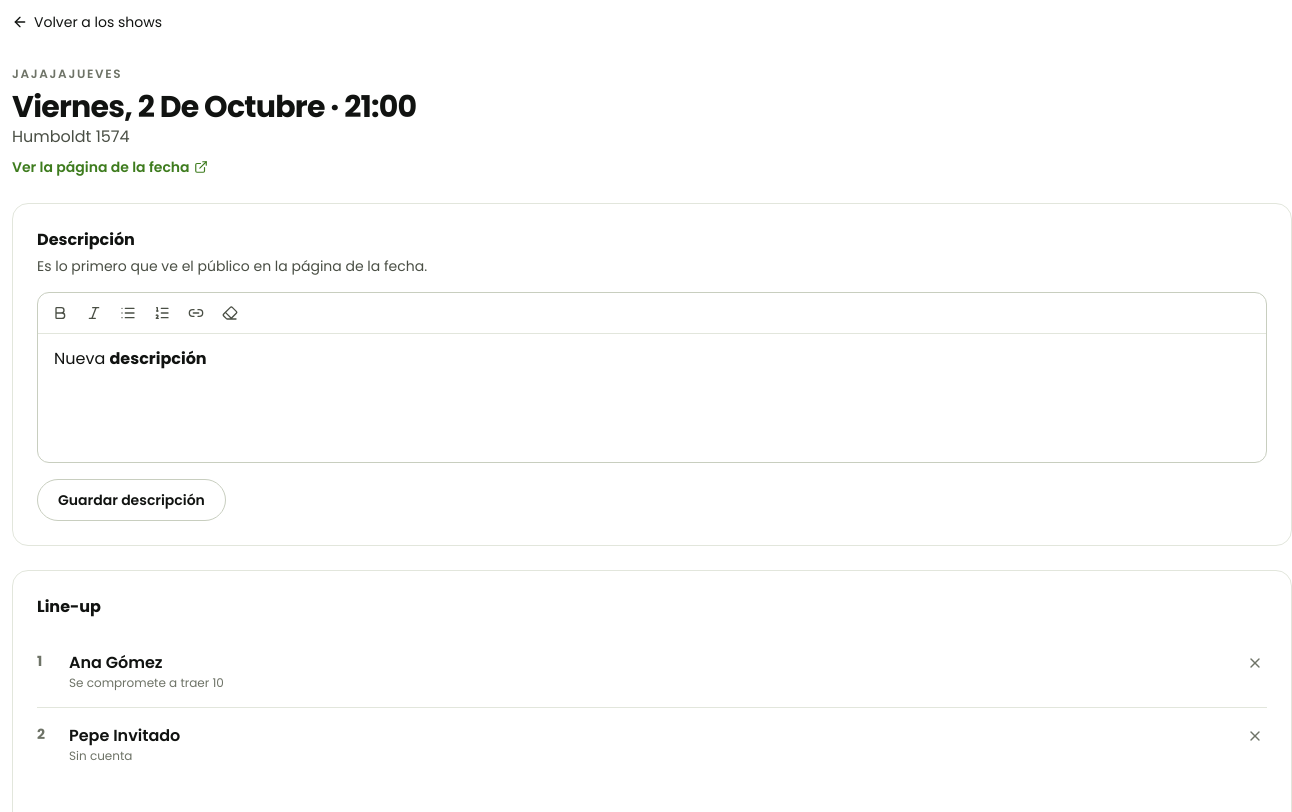
Show (armado) › descripción › guarda lo que se escribió
The image size is (1292, 812).
Expected: the heading "Line-up" is shown, x1=37 y1=595 x2=101 y2=618
Click the button "Guardar descripción" at (131, 500), box x1=37 y1=479 x2=226 y2=521
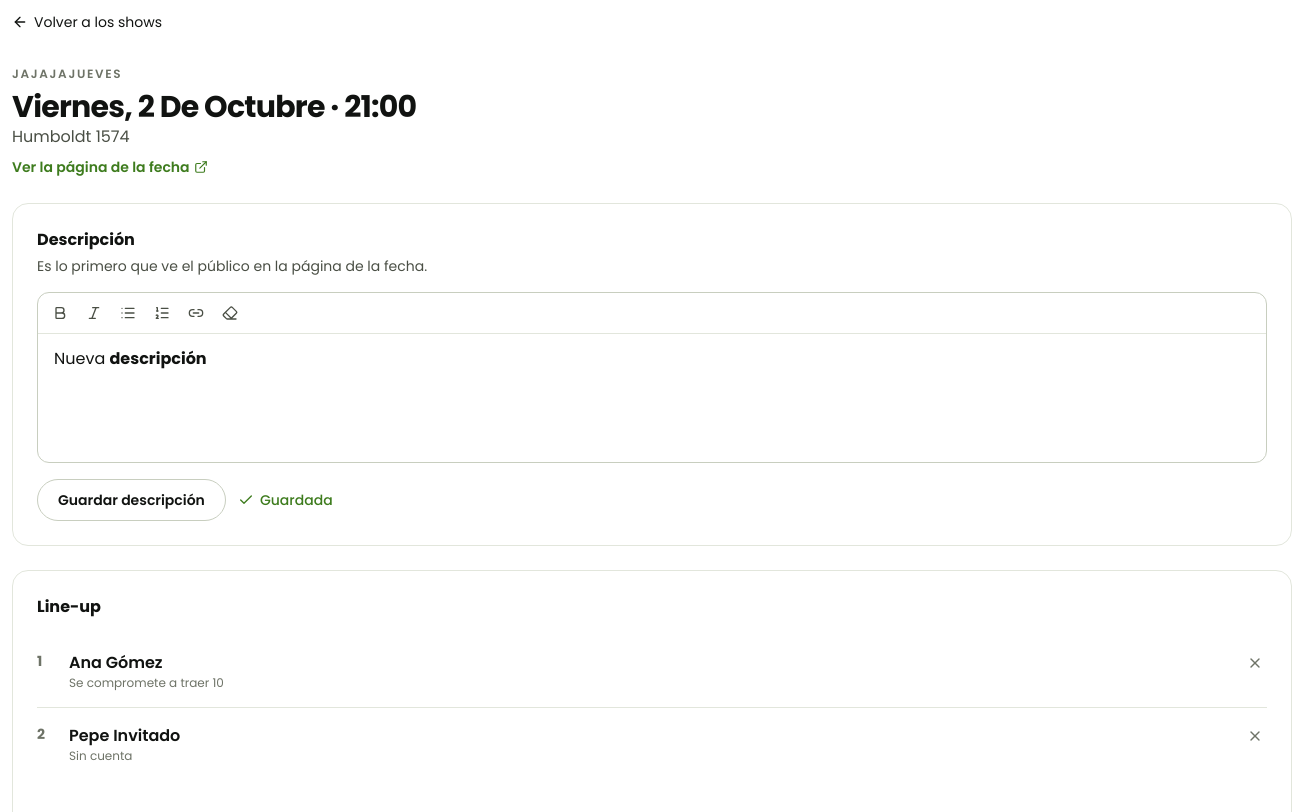
Result: the text "Guardada" is shown at x1=238 y1=490 x2=333 y2=510
